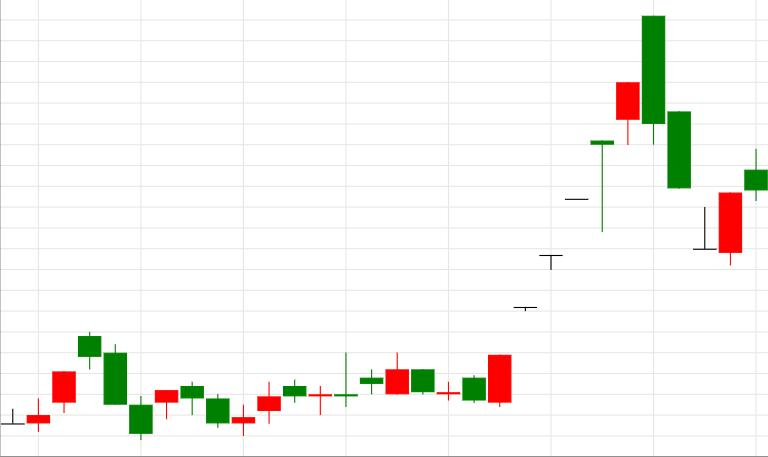bearish_engulfing_fall: (488, 16, 665, 407)
